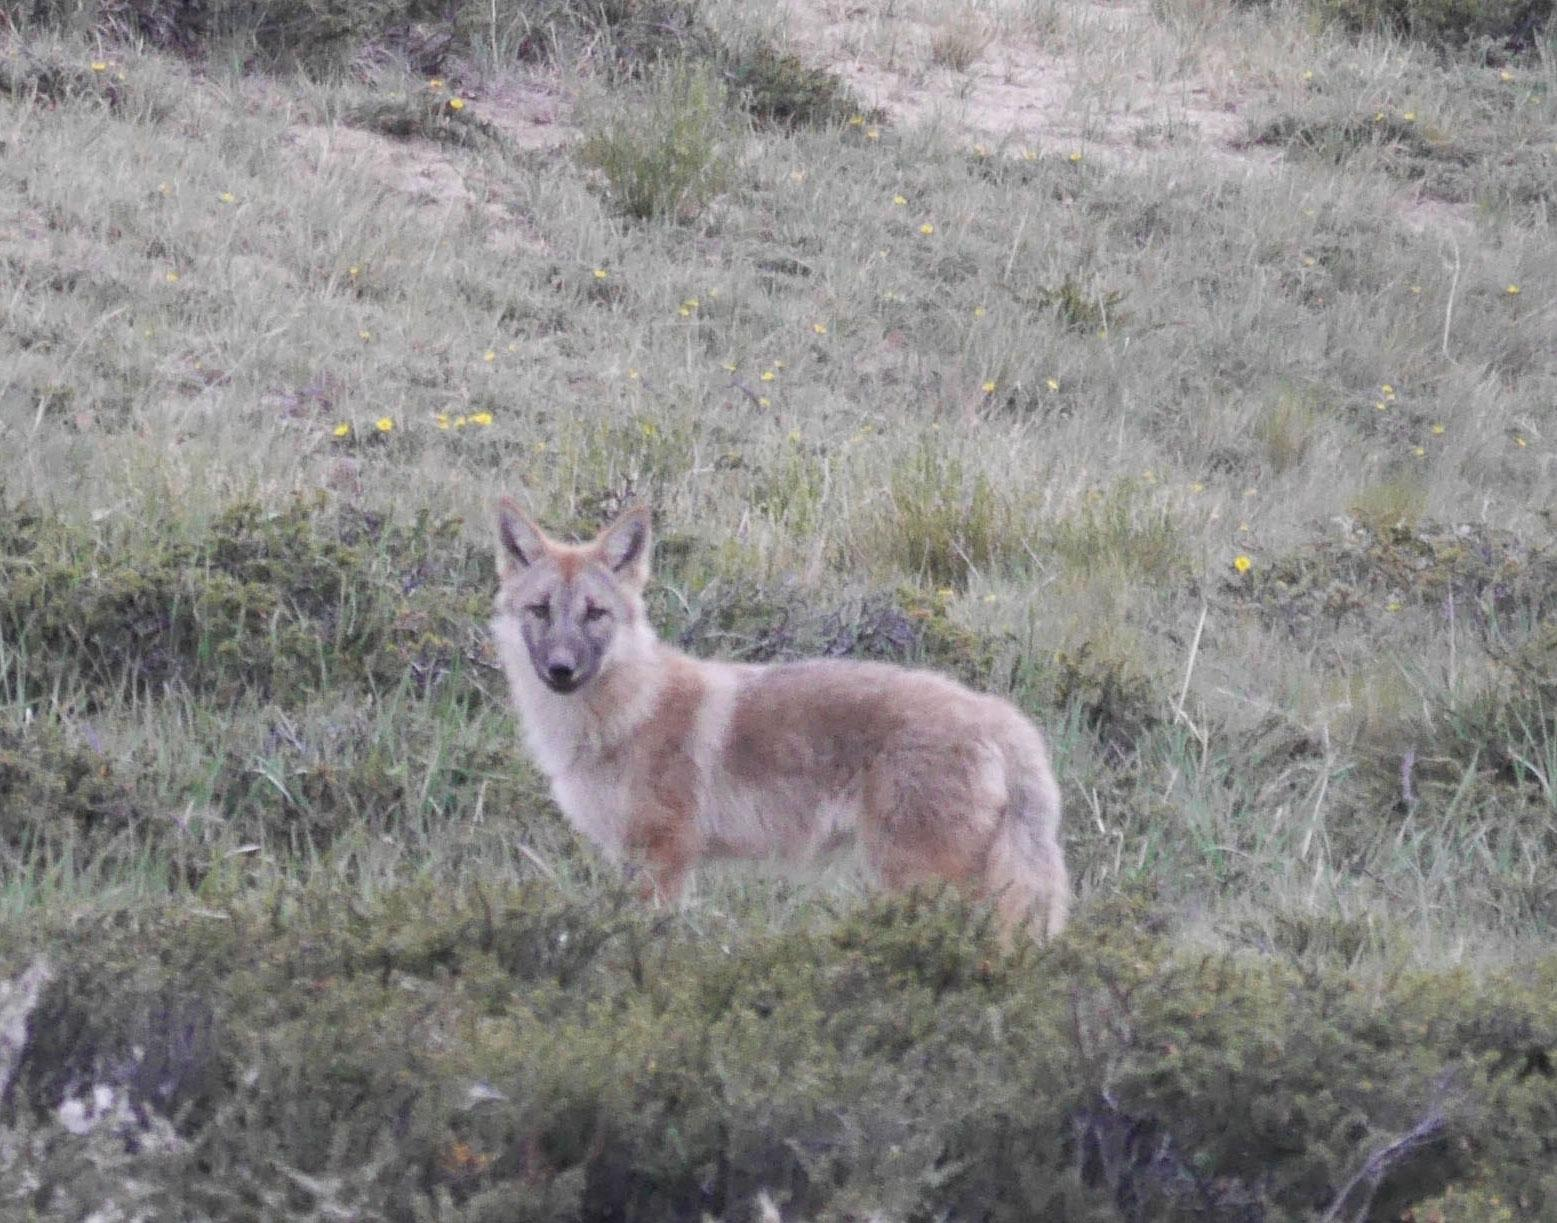Wolf: (479, 484, 1074, 1001)
